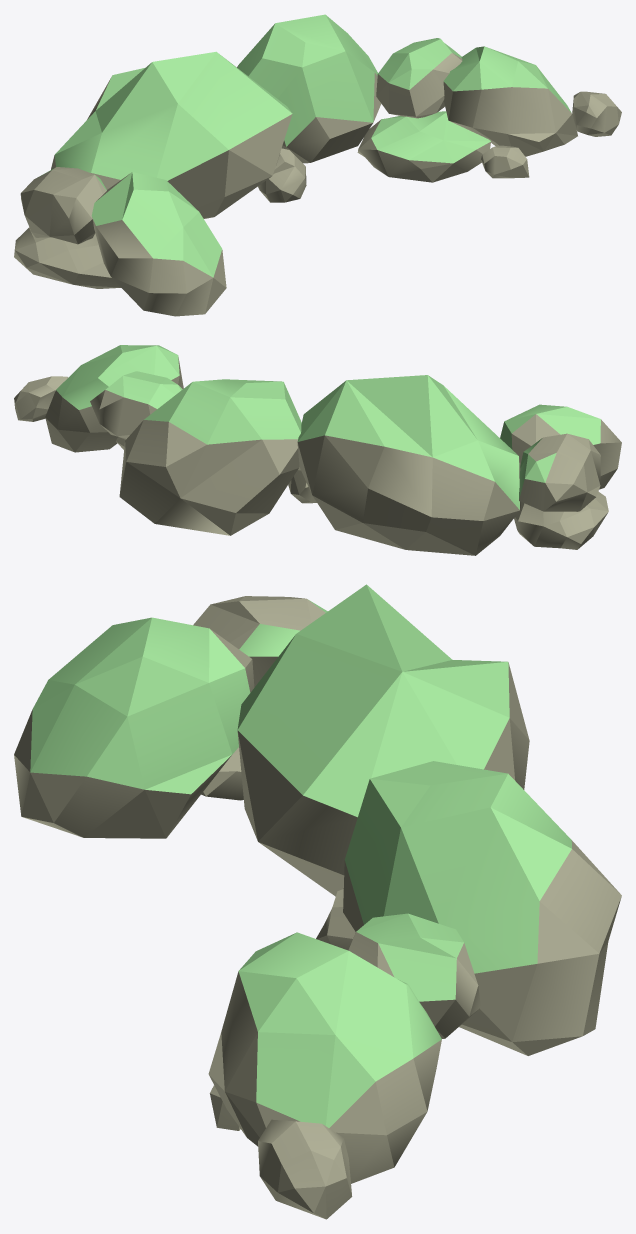
Rendered from New Spring_Obstacle2.fbx.
The picture shows the model from 3 angles, top to bottom: view 1: azimuth 30°, elevation 25°; view 2: azimuth 150°, elevation 25°; view 3: azimuth 270°, elevation 25°; orthographic projection. The views are drawn at different scales.
Visible parts, largest first — view 1: Камень.019; view 2: Камень.019; view 3: Камень.019.
Boxes of the visible parts, x1,y1,x2,y2 form: Камень.019: (14, 14, 621, 316); Камень.019: (14, 345, 621, 555); Камень.019: (14, 584, 621, 1219).
Size of the model in its own units: 1676 by 439 by 873.
